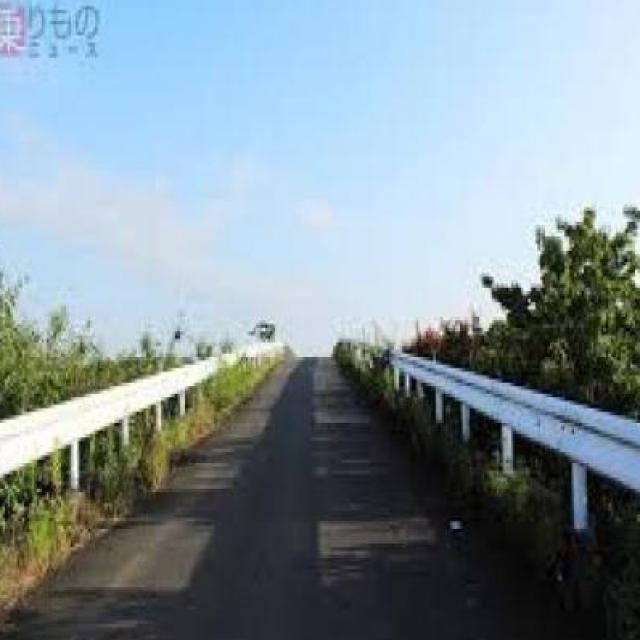Guard rail: (339, 331, 640, 560), (0, 333, 283, 555)
